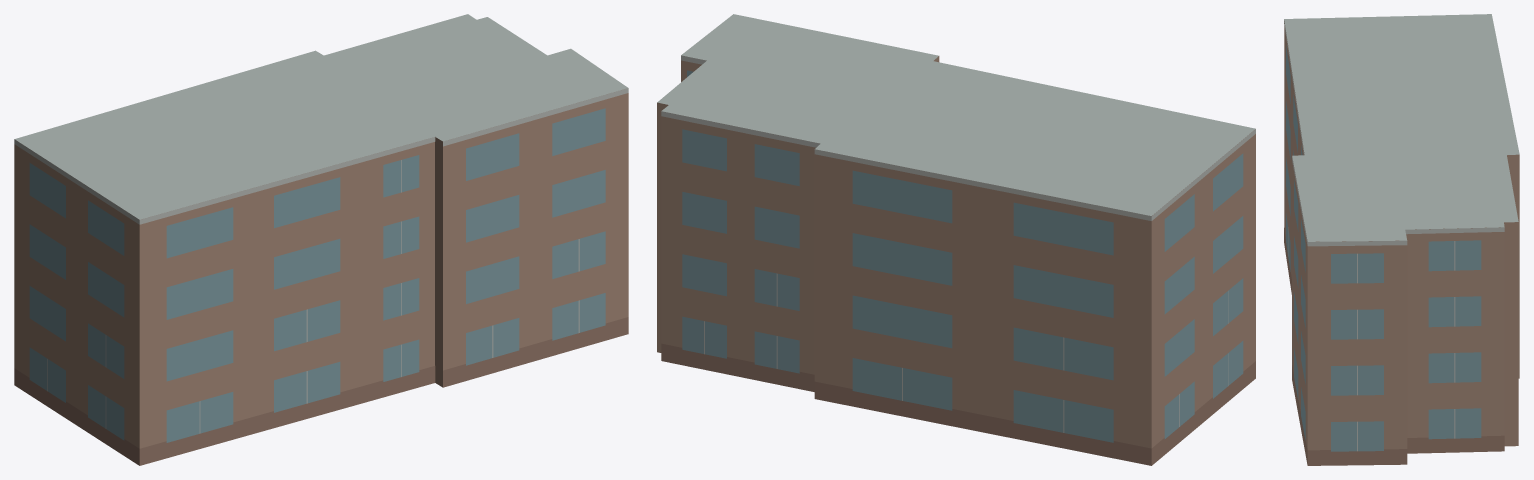
File: survey-upis-32661387.glb
3 renders of one model, left to right at view 1: azimuth 30°, elevation 25°; view 2: azimuth 150°, elevation 25°; view 3: azimuth 270°, elevation 25°, orthographic. The views are drawn at different scales.
Visible parts, largest first — view 1: survey-upis-32661387.tmp; view 2: survey-upis-32661387.tmp; view 3: survey-upis-32661387.tmp.
Boxes of the visible parts, bbox=[...] form: survey-upis-32661387.tmp: bbox=[14, 14, 628, 465]; survey-upis-32661387.tmp: bbox=[657, 14, 1255, 465]; survey-upis-32661387.tmp: bbox=[1284, 14, 1519, 465].
Bounding box in the file's own units: 26.41 × 12.1 × 11.54.
